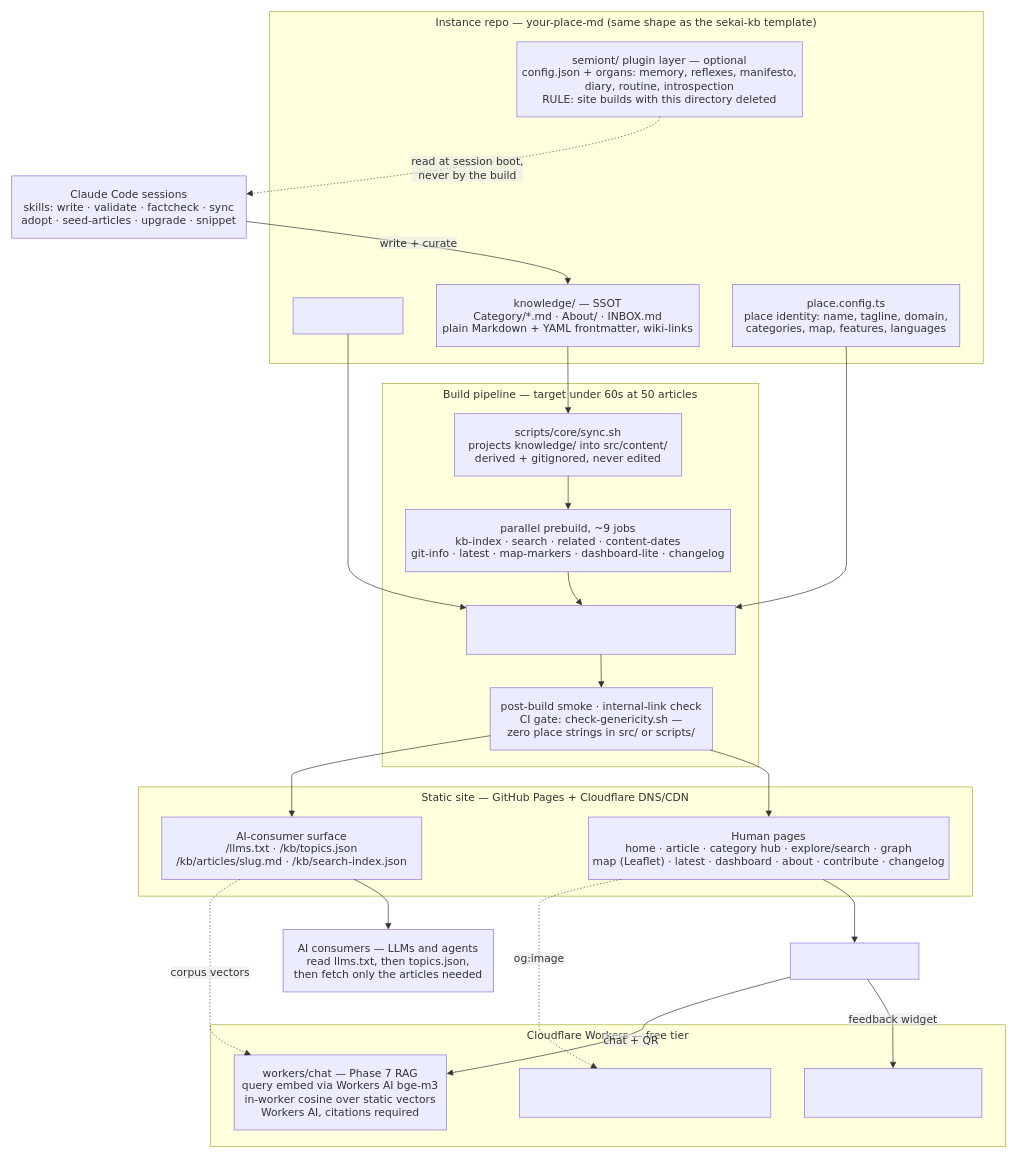
Some shapes in this 1017 by 1158 pixel diagram are drawn without their labels. Here are the shapes that lost their labels. From the top down, the centre of each, then its label:
point 347,315: public/media/
point 600,629: astro build components + templates read place.config only
point 854,960: Readers — humans
point 645,1092: workers/og — Phase 7 on-demand OG images, Satori + resvg-wasm
point 893,1092: workers/feedback — Phase 6 intake Worker + D1
